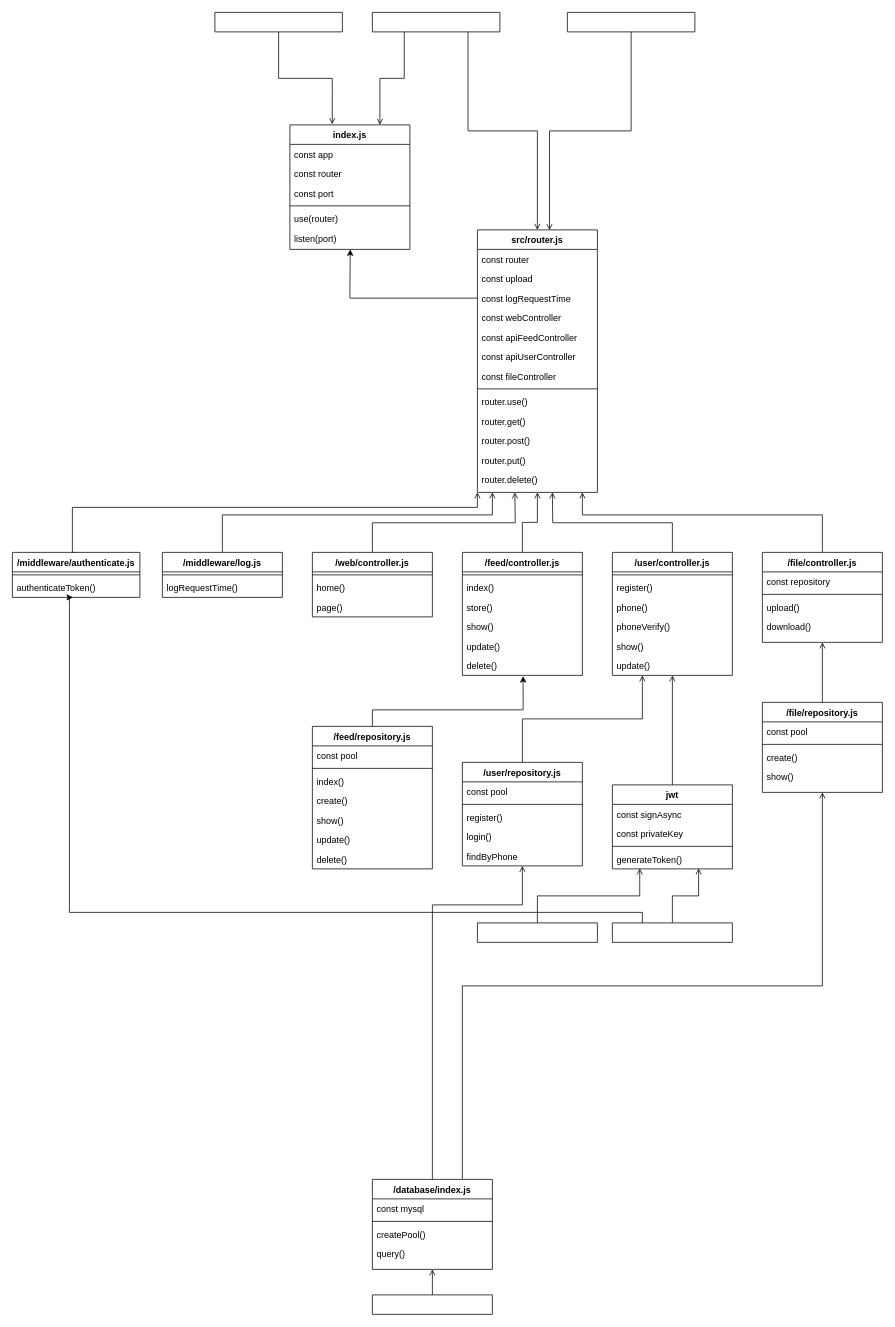
The diagram is 895 pixels wide and 1327 high, and some of its shapes have lost their labels. The centre of each missing label's shape, as x and y in pixels:
body-parser: the point at 278,22
express: the point at 436,22
jsonwebtoken: the point at 672,932
mullter: the point at 631,22
mysql: the point at 432,1304
util: the point at 537,932
